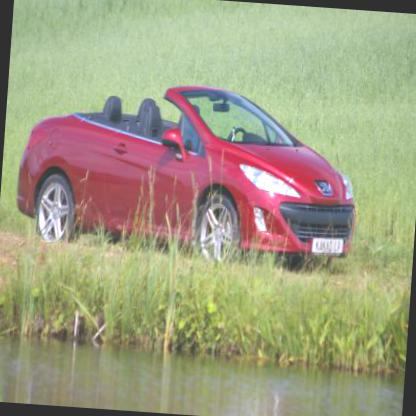car: (13, 75, 365, 272)
